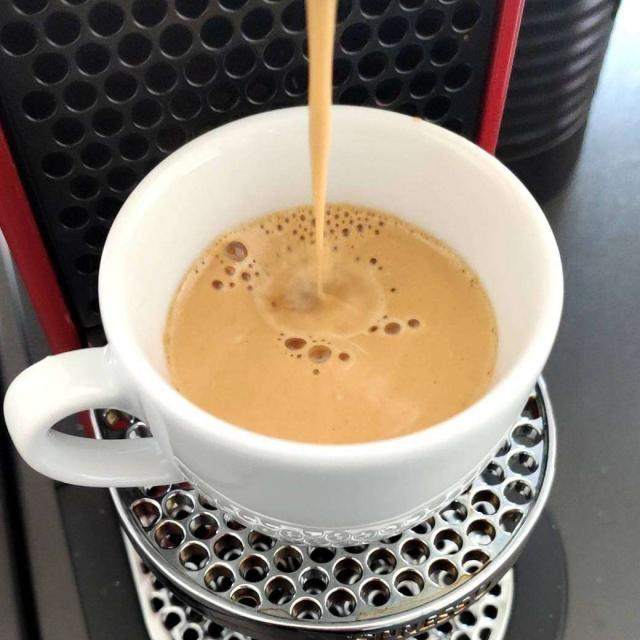espresso: (166, 202, 495, 441)
